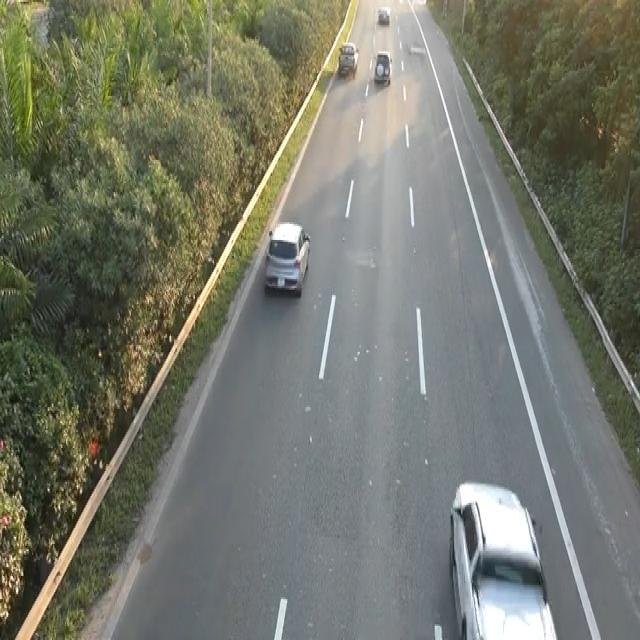bus: (262, 217, 311, 299)
car: (445, 474, 559, 636), (372, 48, 392, 85)
